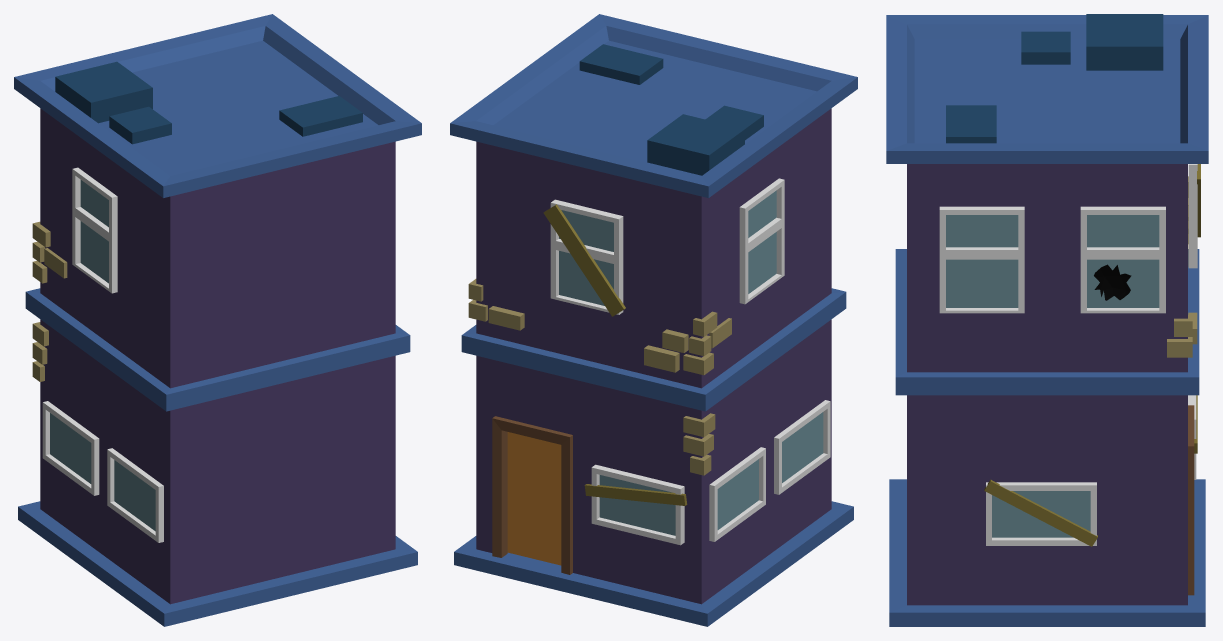
The model's file is imeuble apo 2.fbx.
The picture shows the model from 3 angles, left to right: view 1: azimuth 30°, elevation 25°; view 2: azimuth 150°, elevation 25°; view 3: azimuth 270°, elevation 25°; orthographic projection. The views are drawn at different scales.
Visible parts, largest first — view 1: Cube, Cube.013; view 2: Cube, Cube.013, Cube.002, Cube.004; view 3: Cube, Cube.016, Cube.013.
Boxes of the visible parts, bbox=[...] form: Cube: bbox=[14, 14, 421, 626]; Cube.013: bbox=[32, 221, 67, 381]; Cube: bbox=[450, 14, 857, 626]; Cube.013: bbox=[468, 279, 731, 475]; Cube.002: bbox=[543, 204, 625, 316]; Cube.004: bbox=[584, 484, 687, 505]; Cube: bbox=[886, 14, 1208, 626]; Cube.016: bbox=[984, 479, 1097, 546]; Cube.013: bbox=[1167, 176, 1197, 357].
Size of the model in its own units: 799 by 1337 by 799.
